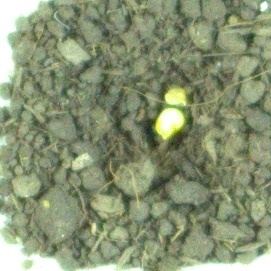pepper seed: (61, 36, 249, 178), (67, 29, 258, 137)
